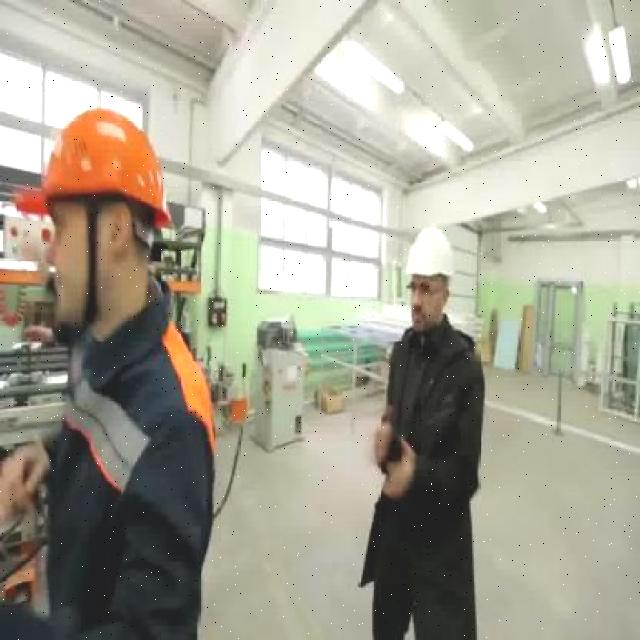Helmet: (16, 106, 175, 232), (400, 223, 456, 277)
Mask: (17, 267, 254, 640)
